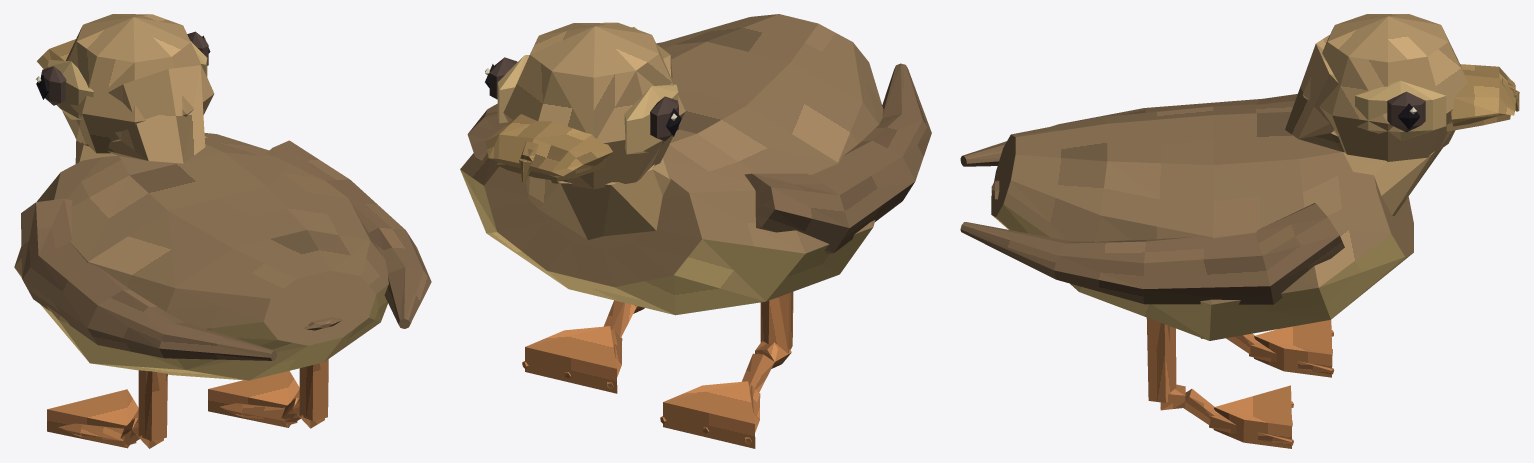
The model's file is mon_cormorant_chick.glb.
The picture shows the model from 3 angles, left to right: view 1: azimuth 30°, elevation 25°; view 2: azimuth 150°, elevation 25°; view 3: azimuth 270°, elevation 25°; orthographic projection. The views are drawn at different scales.
Parts seen in each view (by area): view 1: closed_body; view 2: closed_body; view 3: closed_body.
Part boxes in pixels (box(x1,y1,x2,y2)): closed_body: box(14, 14, 431, 448); closed_body: box(460, 14, 931, 448); closed_body: box(960, 14, 1519, 448).
Size of the model in its own units: 0.0852 by 0.0886 by 0.1187.
Materials: 1 (1 with a texture image).
